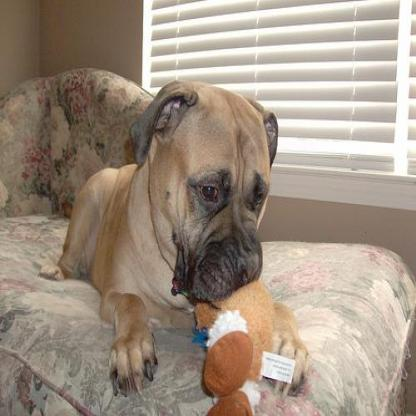bull_mastiff: (36, 83, 314, 397)
